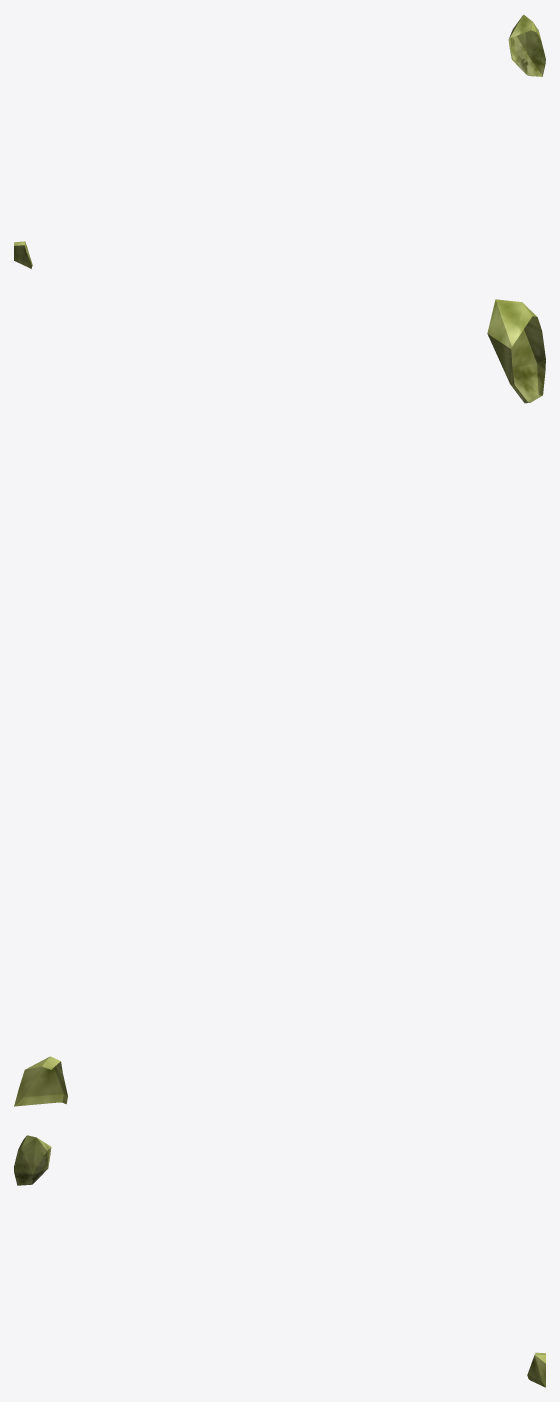
3 views of the same model, one above another, from view 1: azimuth 90°, elevation 25°; view 2: azimuth 150°, elevation 25°; view 3: azimuth 270°, elevation 25° (orthographic). The views are drawn at different scales.
Size of the model in its own units: 0.1179 by 1.4 by 2.72.
1 material, 1 textured.
